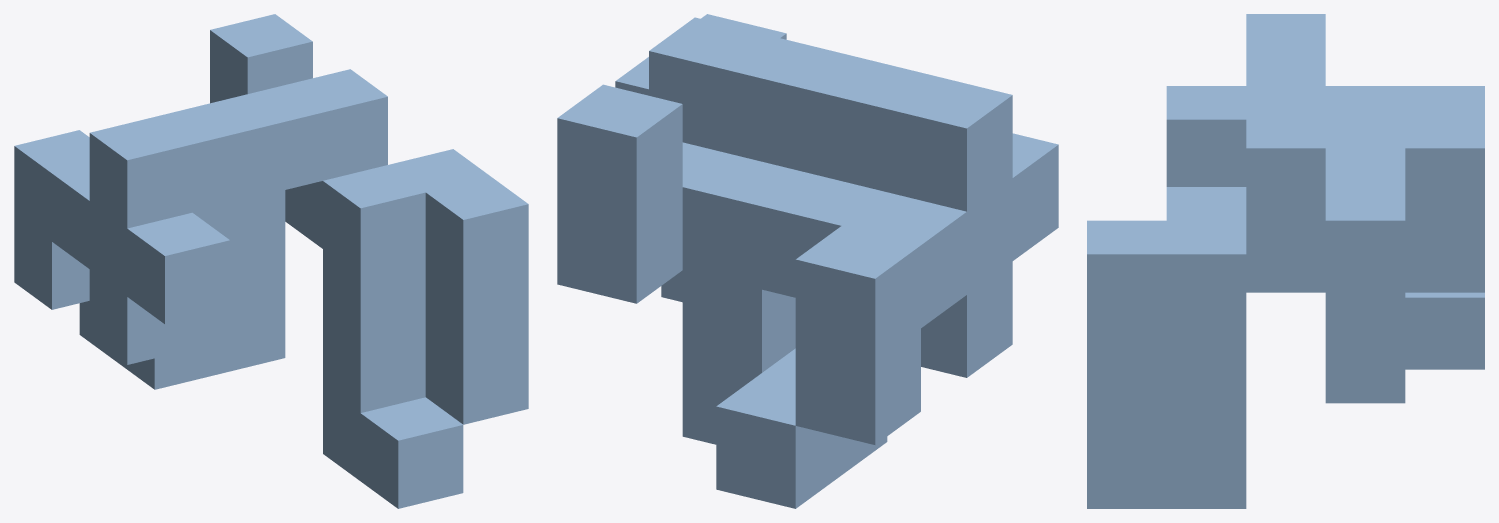
3 renders of one model, left to right at view 1: azimuth 30°, elevation 25°; view 2: azimuth 150°, elevation 25°; view 3: azimuth 270°, elevation 25°, orthographic. The views are drawn at different scales.
Visible parts, largest first — view 1: _changes (2).005; view 2: _changes (2).005; view 3: _changes (2).005.
Boxes of the visible parts, x1,y1,x2,y2 form: _changes (2).005: [14, 14, 528, 508]; _changes (2).005: [557, 14, 1058, 508]; _changes (2).005: [1087, 14, 1484, 508].
Size of the model in its own units: 0.1999 by 0.1999 by 0.1999.
